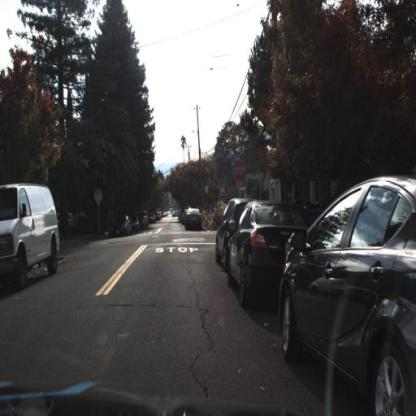car: (280, 178, 416, 416), (225, 198, 326, 310), (225, 198, 320, 310), (1, 182, 64, 294), (1, 181, 61, 291), (213, 188, 266, 276), (215, 193, 251, 265), (55, 210, 80, 237), (110, 214, 135, 240), (185, 205, 205, 234), (114, 213, 133, 238), (184, 207, 203, 232), (131, 215, 141, 235)
